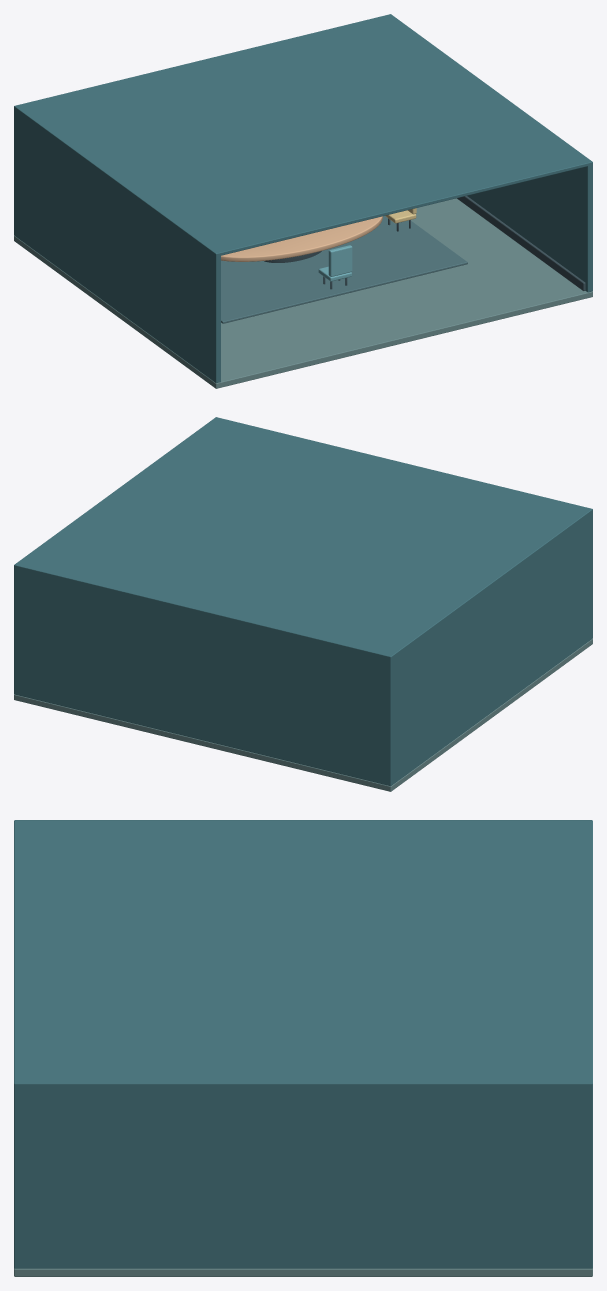
3 views of the same model, one above another, from view 1: azimuth 30°, elevation 25°; view 2: azimuth 150°, elevation 25°; view 3: azimuth 270°, elevation 25° (orthographic). The views are drawn at different scales.
Visible parts, largest first — view 1: Meeting_Ceiling, Meeting_LeftWall, Meeting_Floor, Meeting_Rug, Meeting_RightWall, Meeting_TableTop, Meeting_RightBaseboard, Meeting_Chair_Front_Back; view 2: Meeting_Ceiling, Meeting_BackWall, Meeting_LeftWall, Meeting_Floor, Meeting_RightWall; view 3: Meeting_Ceiling, Meeting_RightWall, Meeting_Floor, Meeting_BackWall, Meeting_LeftWall.
Boxes of the visible parts, x1,y1,x2,y2 form: Meeting_Ceiling: [14, 14, 592, 255]; Meeting_LeftWall: [14, 106, 220, 383]; Meeting_Floor: [14, 198, 592, 388]; Meeting_Rug: [221, 216, 467, 323]; Meeting_RightWall: [387, 15, 592, 292]; Meeting_TableTop: [221, 216, 382, 261]; Meeting_RightBaseboard: [457, 196, 585, 290]; Meeting_Chair_Front_Back: [328, 245, 352, 276]; Meeting_Ceiling: [14, 417, 592, 658]; Meeting_BackWall: [14, 563, 393, 786]; Meeting_LeftWall: [386, 509, 592, 785]; Meeting_Floor: [14, 638, 592, 791]; Meeting_RightWall: [17, 417, 219, 563]; Meeting_Ceiling: [14, 820, 592, 1087]; Meeting_RightWall: [14, 1080, 592, 1268]; Meeting_Floor: [14, 1268, 592, 1276]; Meeting_BackWall: [585, 820, 592, 1268]; Meeting_LeftWall: [14, 820, 592, 823].
Size of the model in its own units: 14 by 4.8 by 13.
